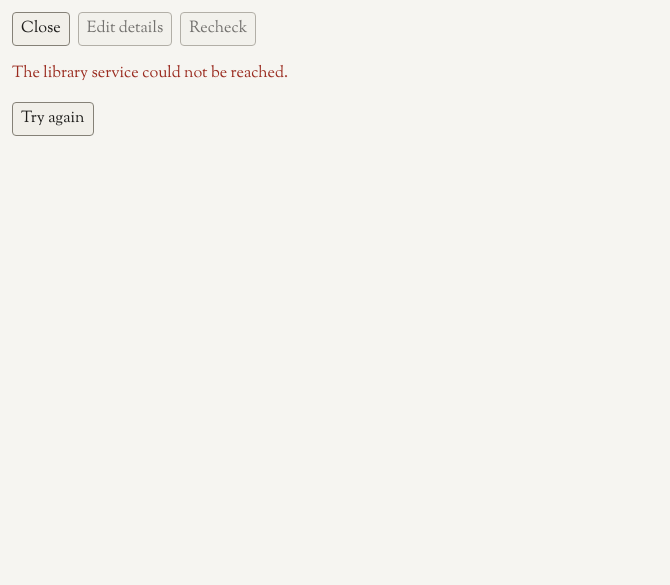
Test: the source's detail alone: its read has the limit (FR-756 remainder) › a read that FAILS with no answer says “could not be reached” as before, now with “Try again”
Click the button "Try again" at point(53, 119), box [12,102,94,136]
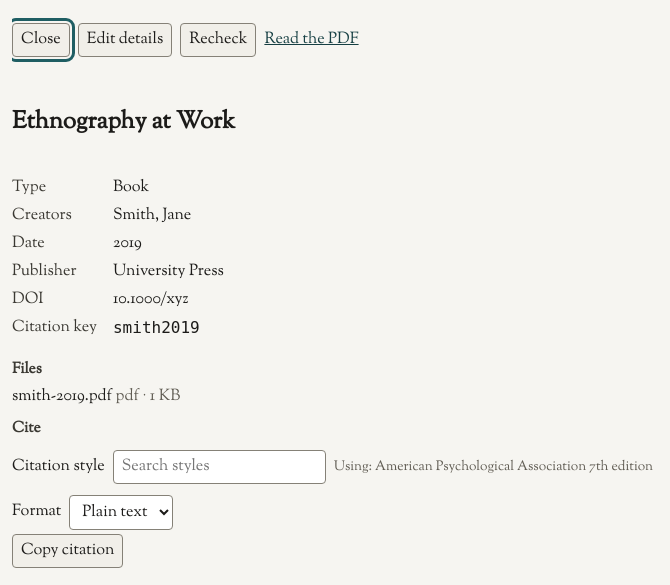
expect the heading "Ethnography at Work" is shown: met, box [12,104,235,140]
